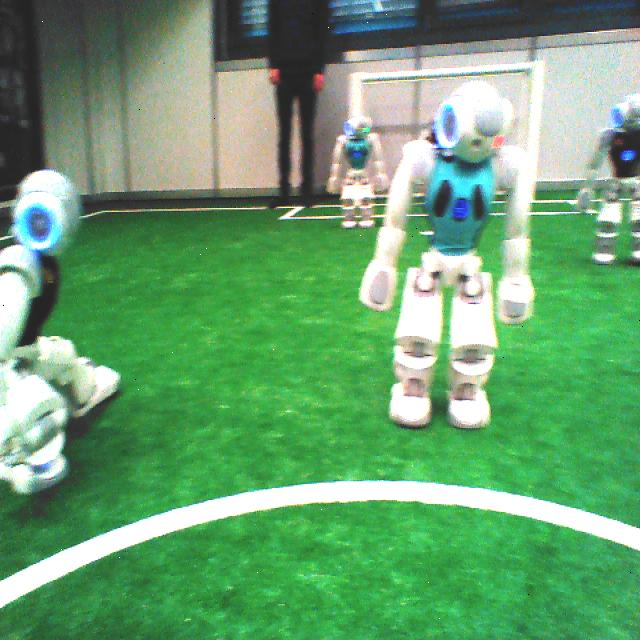goalpost: (523, 60, 548, 200), (348, 70, 365, 118)
